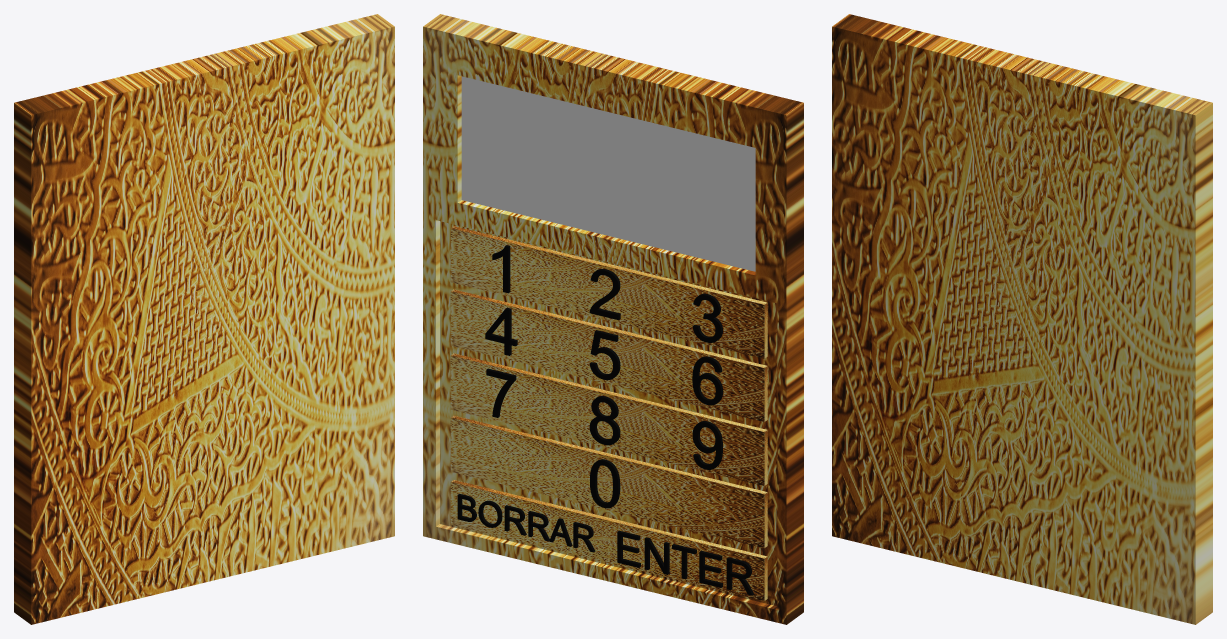
Rendered from calculadora.FBX.
3 views of the same model, side by side, from view 1: azimuth 30°, elevation 25°; view 2: azimuth 150°, elevation 25°; view 3: azimuth 330°, elevation 25° (orthographic).
Parts seen in each view (by area): view 1: calculadora; view 2: calculadora, pantalla, borrar (×2), enter, ENTER, 8, 6, 9, 0, 5, 3, 2 (+2 smaller); view 3: calculadora.
Boxes of the visible parts, <box> form: calculadora: <box>14,14,394,624</box>; calculadora: <box>423,14,803,624</box>; pantalla: <box>461,76,755,271</box>; borrar (×2): <box>450,480,610,562</box>; enter: <box>607,518,767,600</box>; ENTER: <box>617,530,754,595</box>; 8: <box>589,396,620,445</box>; 6: <box>692,356,723,405</box>; 9: <box>692,421,722,469</box>; 0: <box>590,459,620,508</box>; 5: <box>589,330,620,380</box>; 3: <box>692,293,722,342</box>; 2: <box>589,269,620,320</box>; calculadora: <box>832,14,1212,624</box>.
Size of the model in its own units: 165 by 221 by 14.36.
